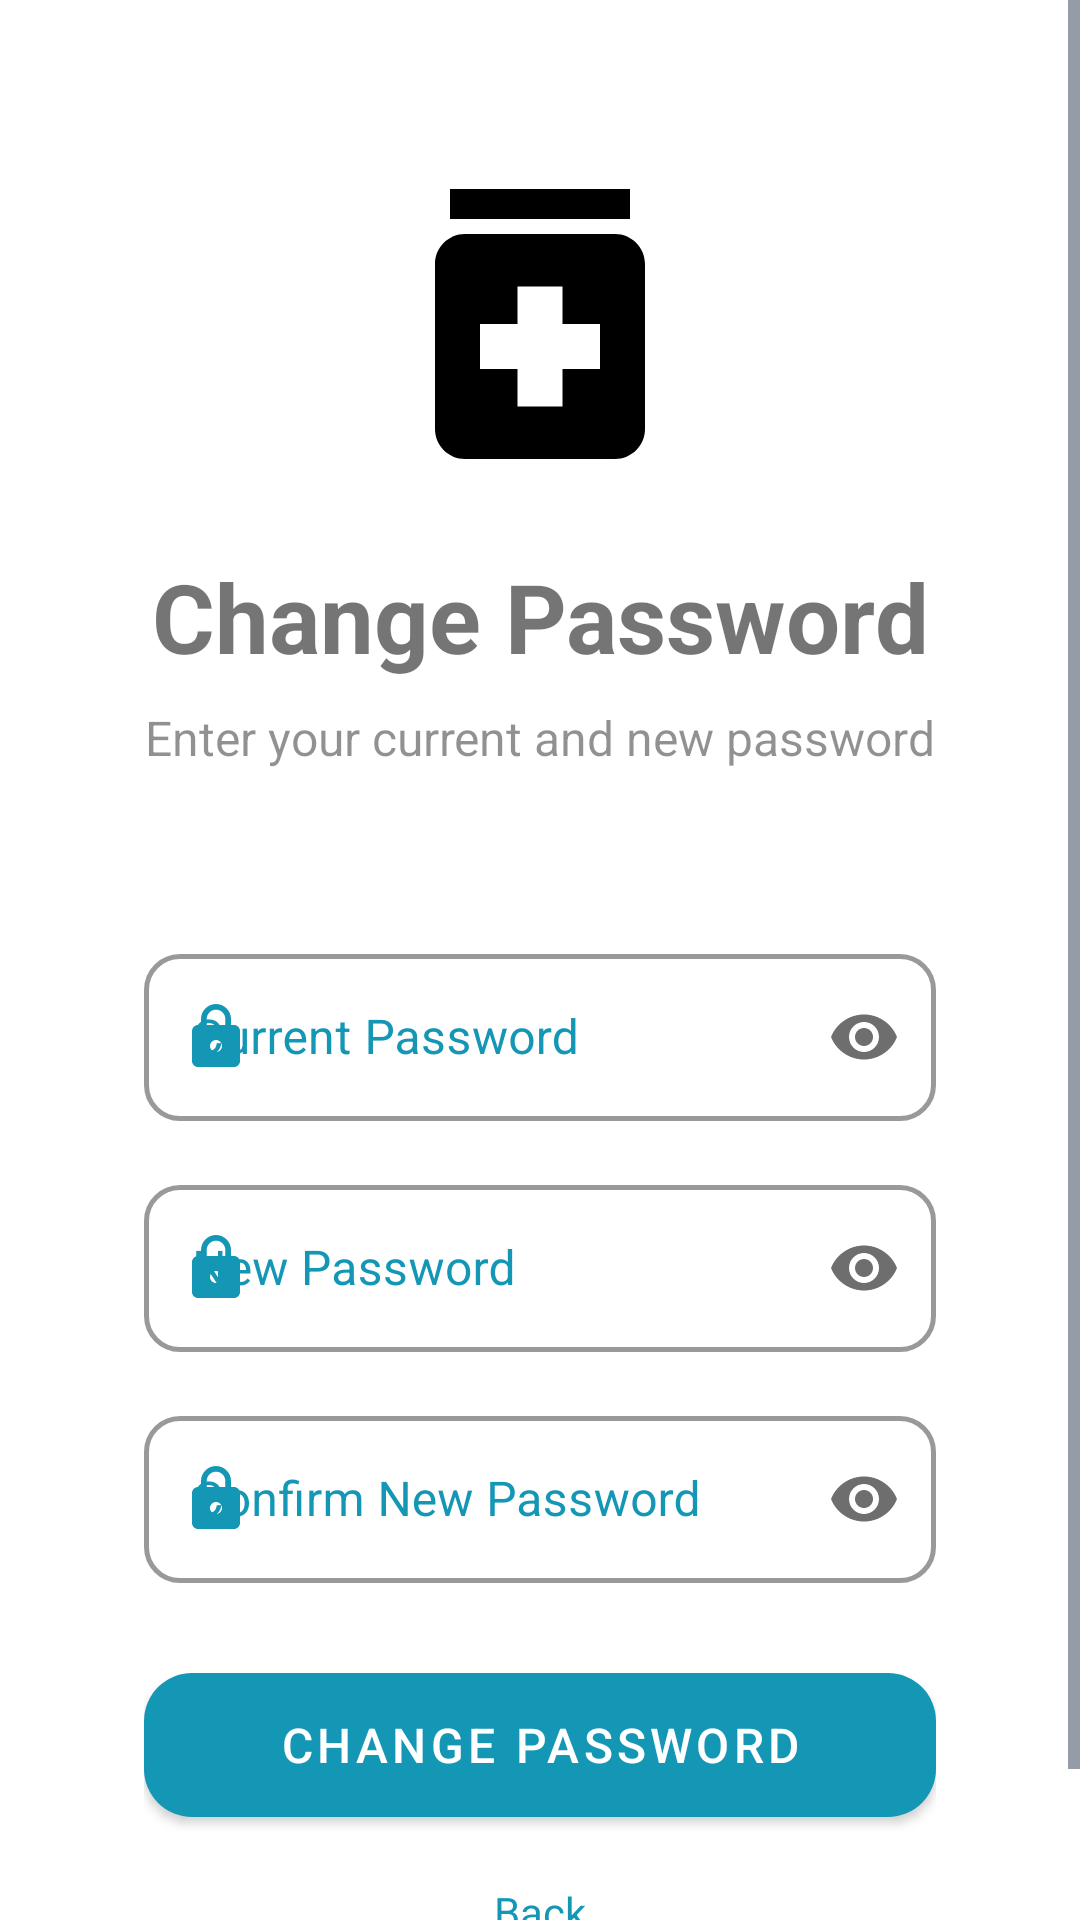

Named icons in this screenshot (1080w x 1920h) and their centers, (x,y):
medication: (540,324)
